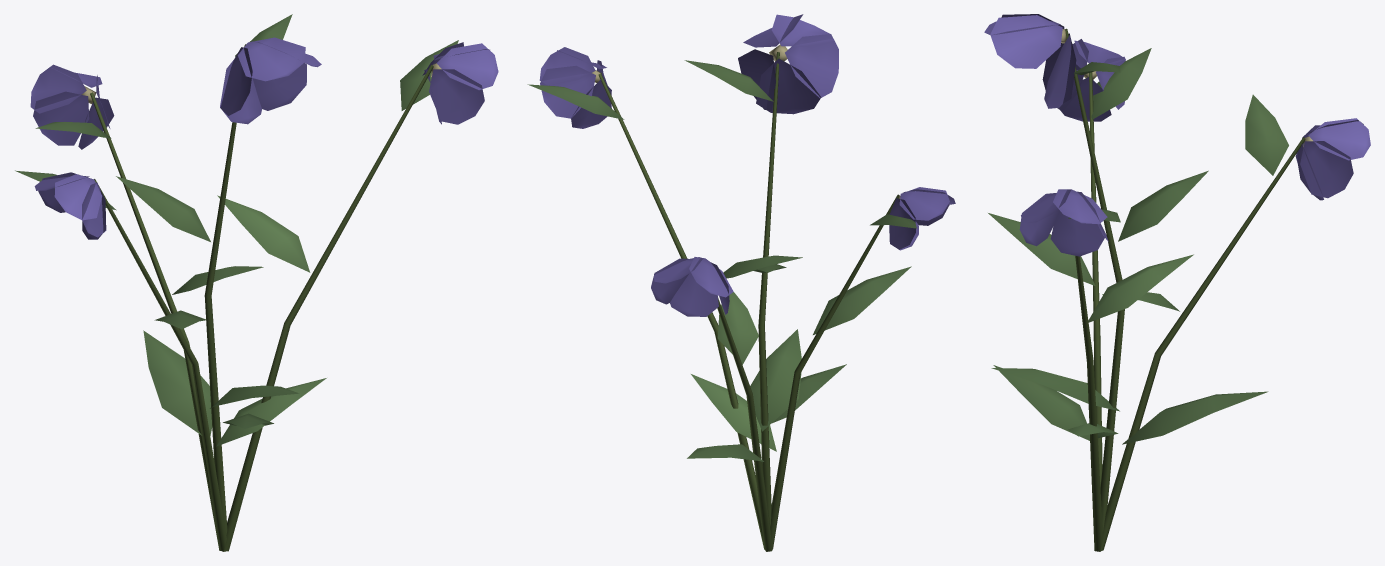
Rendered from harebell.glb.
3 renders of one model, left to right at view 1: azimuth 30°, elevation 25°; view 2: azimuth 150°, elevation 25°; view 3: azimuth 270°, elevation 25°, orthographic. The views are drawn at different scales.
Visible parts, largest first — view 1: harebell; view 2: harebell; view 3: harebell.
Boxes of the visible parts, x1,y1,x2,y2 form: harebell: [15, 14, 498, 551]; harebell: [527, 14, 955, 551]; harebell: [984, 14, 1370, 551].
Size of the model in its own units: 0.34 by 0.3948 by 0.2569.
